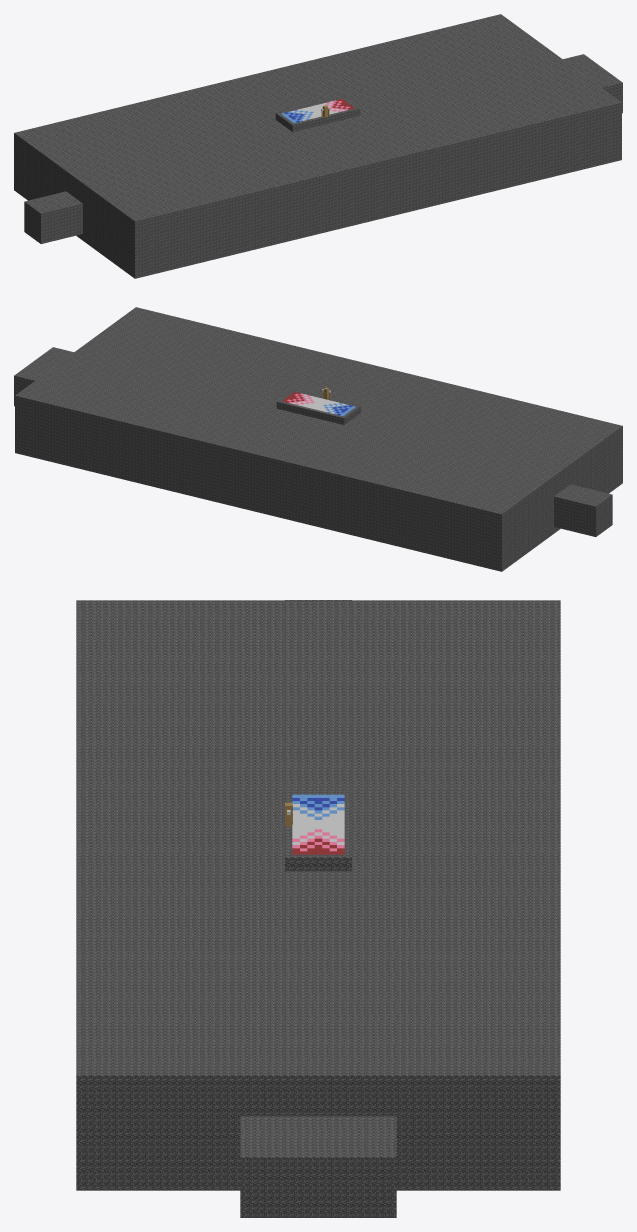
The model's file is minecraft.obj.
3 views of the same model, one above another, from view 1: azimuth 30°, elevation 25°; view 2: azimuth 150°, elevation 25°; view 3: azimuth 270°, elevation 25° (orthographic). The views are drawn at different scales.
Size of the model in its own units: 177 by 29 by 65.
